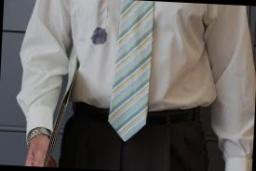ink: (91, 27, 107, 43)
